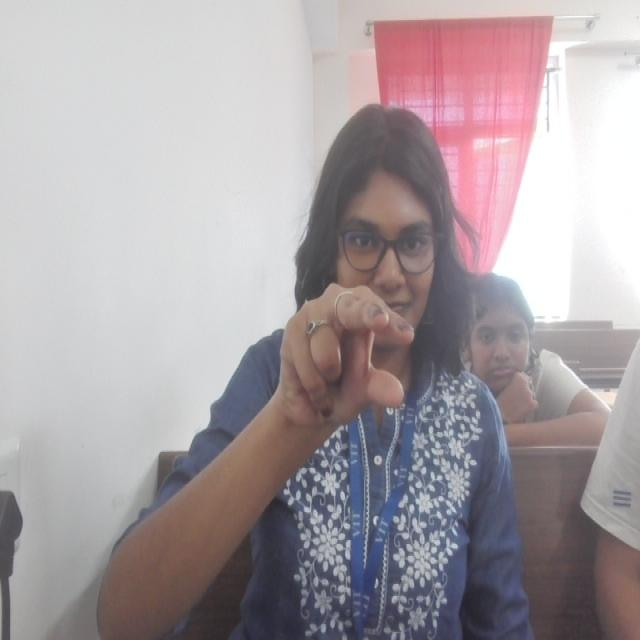no: (278, 278, 412, 440)
